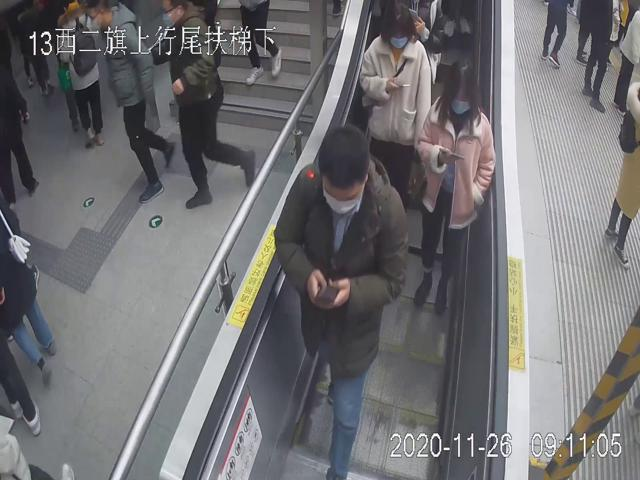person: (274, 123, 409, 480), (412, 52, 495, 315), (152, 4, 257, 210), (89, 0, 174, 204), (359, 0, 432, 212)
